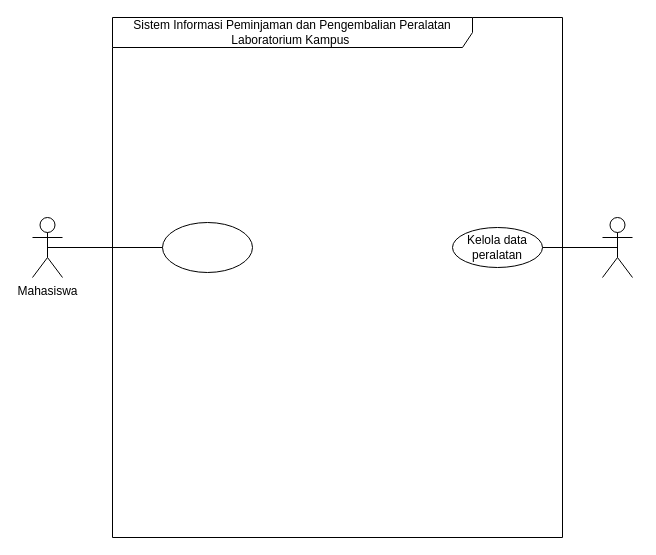
Image size: 656x555. Some labels were removed from this diagram. The shapes that lost their labels are listed below. From the top down, each one's box as (x1, y1, x2, y2) in pixels, then its label:
(162, 222, 252, 272): Lihat kertesediaan peralatan
(602, 216, 632, 278): Petudas Laboran
